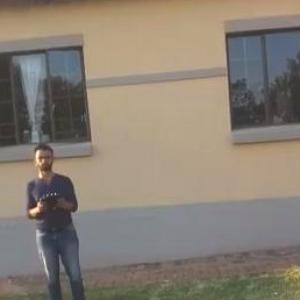follow: (24, 139, 96, 299)
